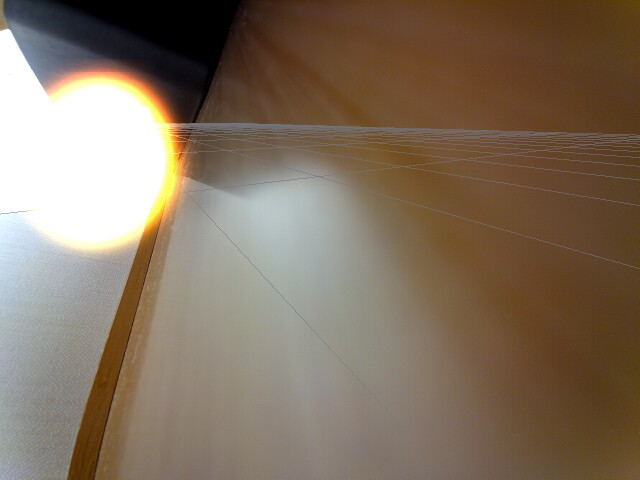firebig: (32, 57, 173, 258)
